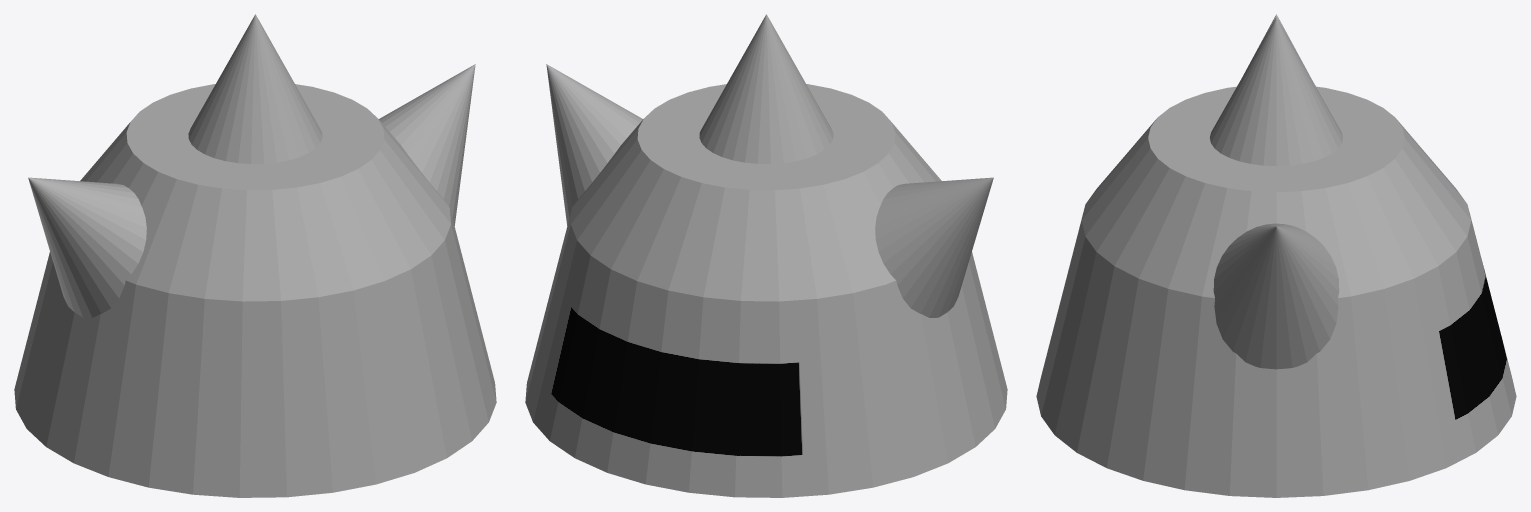
The model's file is spiked_starman.glb.
The picture shows the model from 3 angles, left to right: view 1: azimuth 30°, elevation 25°; view 2: azimuth 150°, elevation 25°; view 3: azimuth 270°, elevation 25°; orthographic projection.
Parts seen in each view (by area): view 1: starman, Cone.002, Cone, Cone.001; view 2: starman, Cone.002, Cone, Cone.001; view 3: starman, Cone.001, Cone.
Part boxes in pixels (x1,y1,x2,y2): starman: [14, 84, 496, 497]; Cone.002: [28, 177, 146, 317]; Cone: [188, 14, 322, 163]; Cone.001: [379, 64, 475, 225]; starman: [525, 84, 1007, 497]; Cone.002: [875, 177, 993, 317]; Cone: [699, 14, 833, 163]; Cone.001: [546, 64, 642, 225]; starman: [1036, 86, 1516, 497]; Cone.001: [1213, 223, 1339, 369]; Cone: [1210, 17, 1342, 165].
Bounding box in the file's own units: 2.14 × 1.74 × 2.
3 materials, 3 textured.
